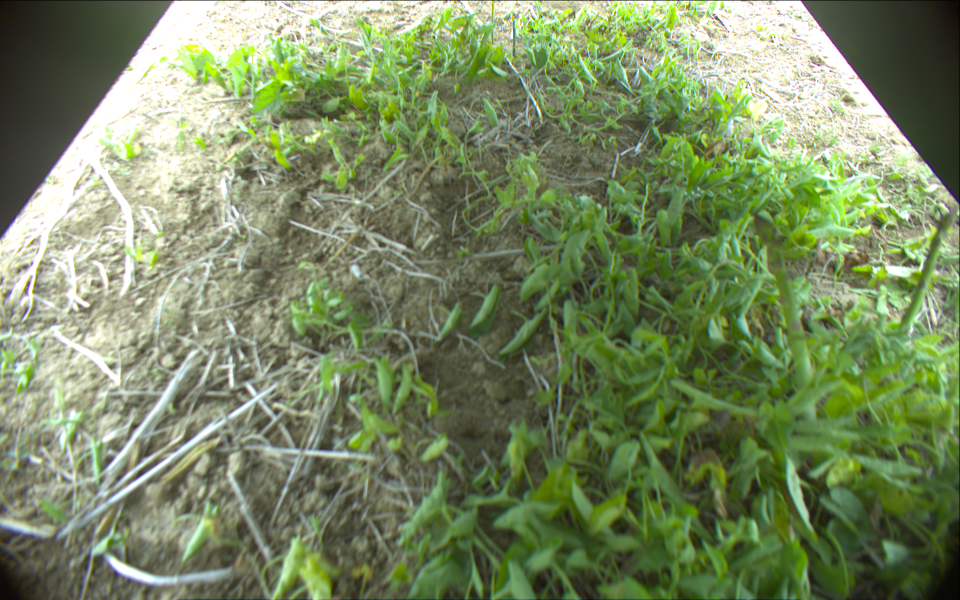aspa: (760, 214, 818, 420), (897, 208, 958, 336), (490, 1, 496, 45), (512, 15, 517, 56)
